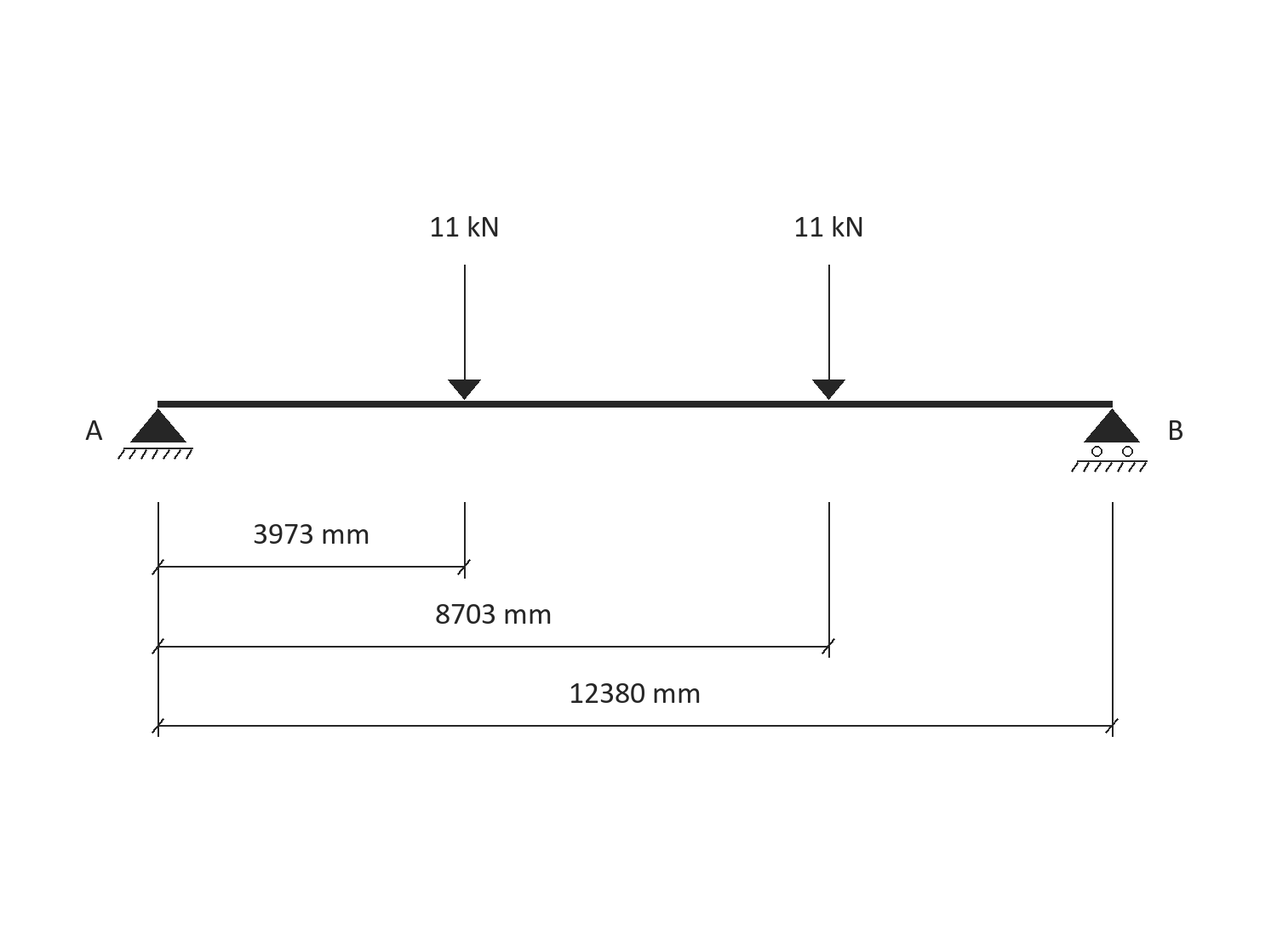pin_support: (117, 408, 193, 459)
point_load: (448, 265, 481, 400), (812, 265, 845, 400)
roller_support: (1071, 408, 1148, 472)
